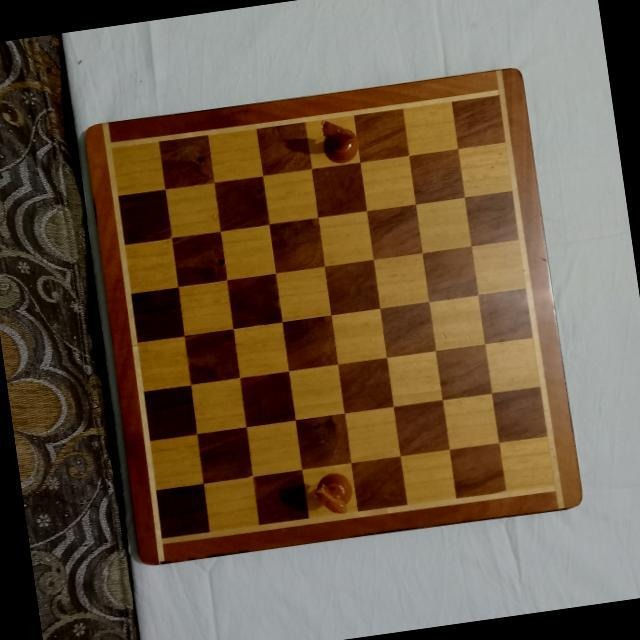white-knight: (308, 471, 356, 521), (315, 115, 361, 166)
